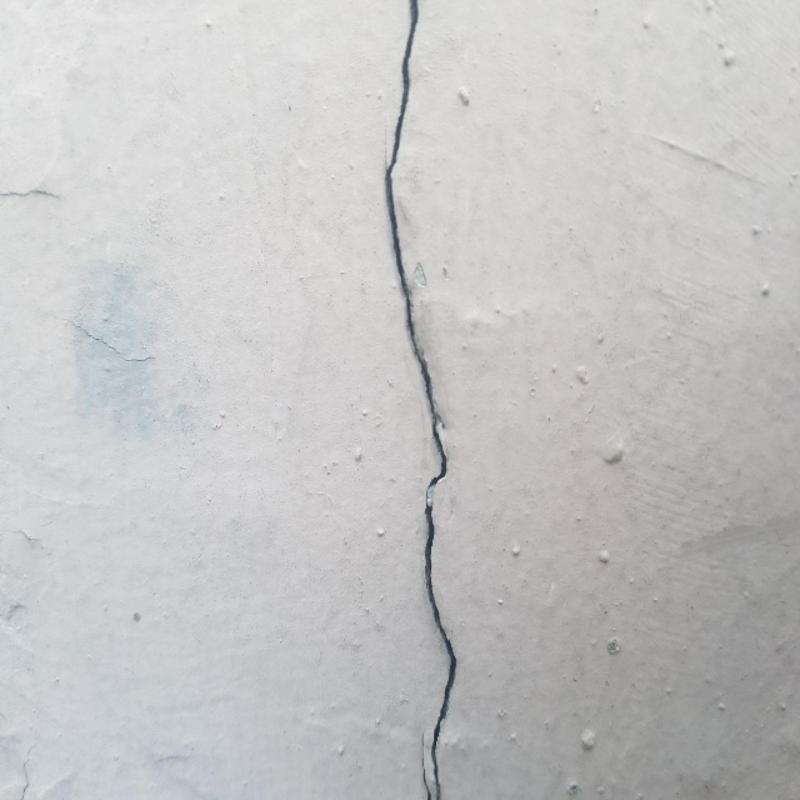crack: (382, 0, 459, 798)
